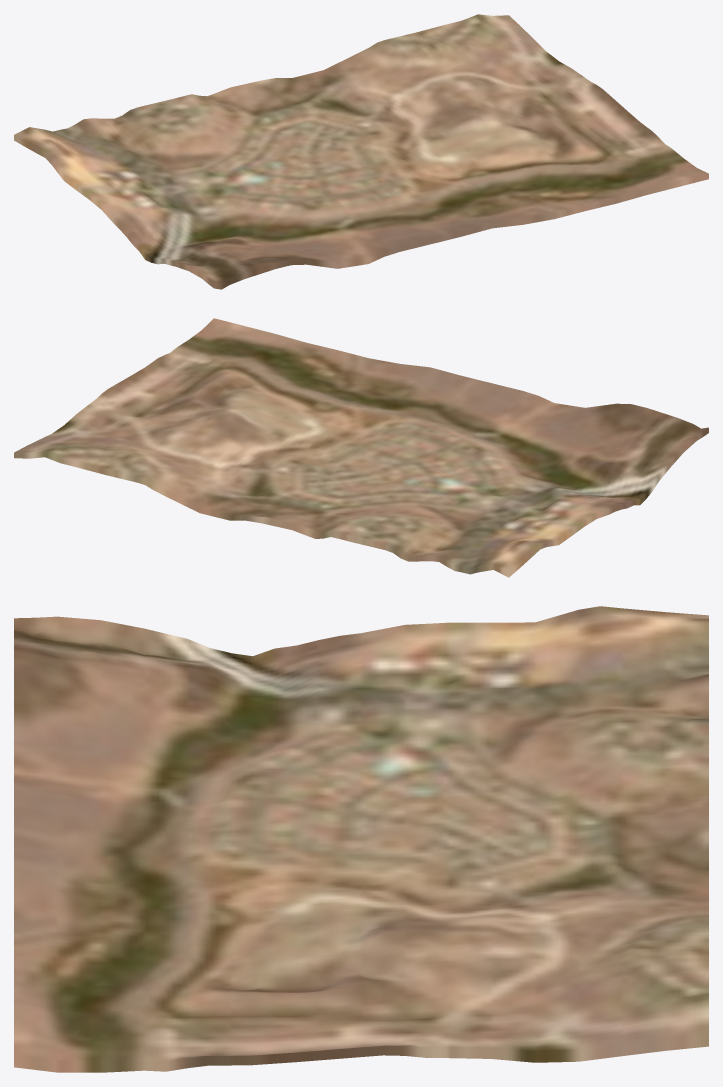
Rendered from terrain_r5_c2_lod2.glb.
The picture shows the model from 3 angles, top to bottom: view 1: azimuth 30°, elevation 25°; view 2: azimuth 150°, elevation 25°; view 3: azimuth 270°, elevation 25°; orthographic projection. The views are drawn at different scales.
Parts seen in each view (by area): view 1: terrain_r5_c2_lod2; view 2: terrain_r5_c2_lod2; view 3: terrain_r5_c2_lod2.
Boxes of the visible parts, x1,y1,x2,y2 form: terrain_r5_c2_lod2: (14, 14, 708, 289); terrain_r5_c2_lod2: (14, 318, 708, 577); terrain_r5_c2_lod2: (14, 606, 708, 1072).
Bounding box in the file's own units: 1125 × 79.04 × 787.
1 material, 1 textured.
